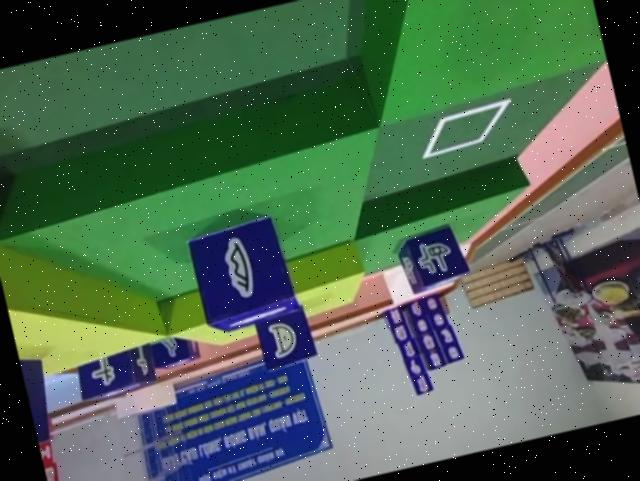R2 Real Blue: (181, 211, 300, 336), (394, 219, 472, 293), (71, 342, 156, 403), (253, 299, 321, 369), (15, 338, 57, 444), (143, 329, 201, 372)
